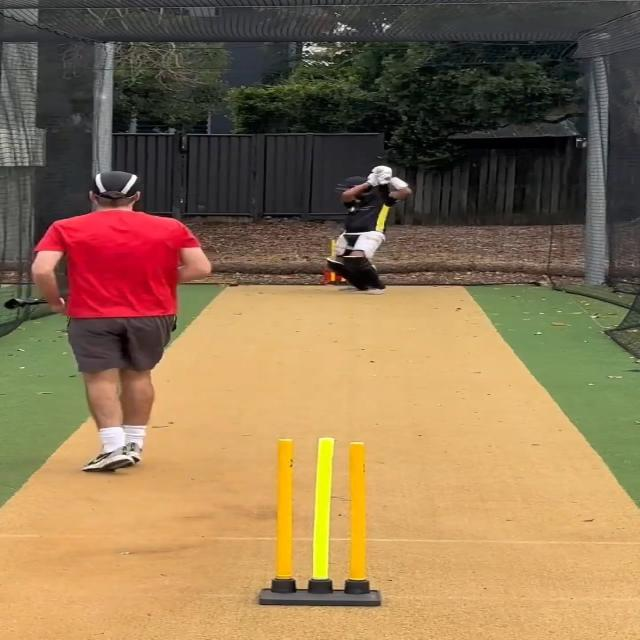stump: (258, 438, 379, 608)
